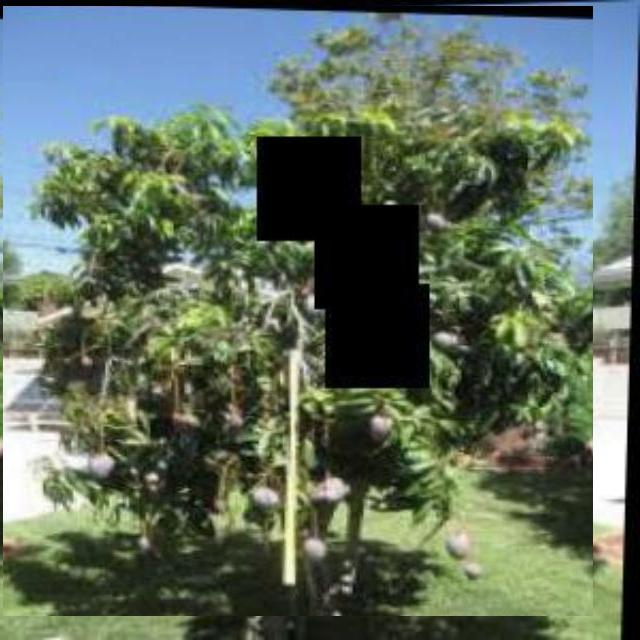tree: (3, 6, 593, 616)
